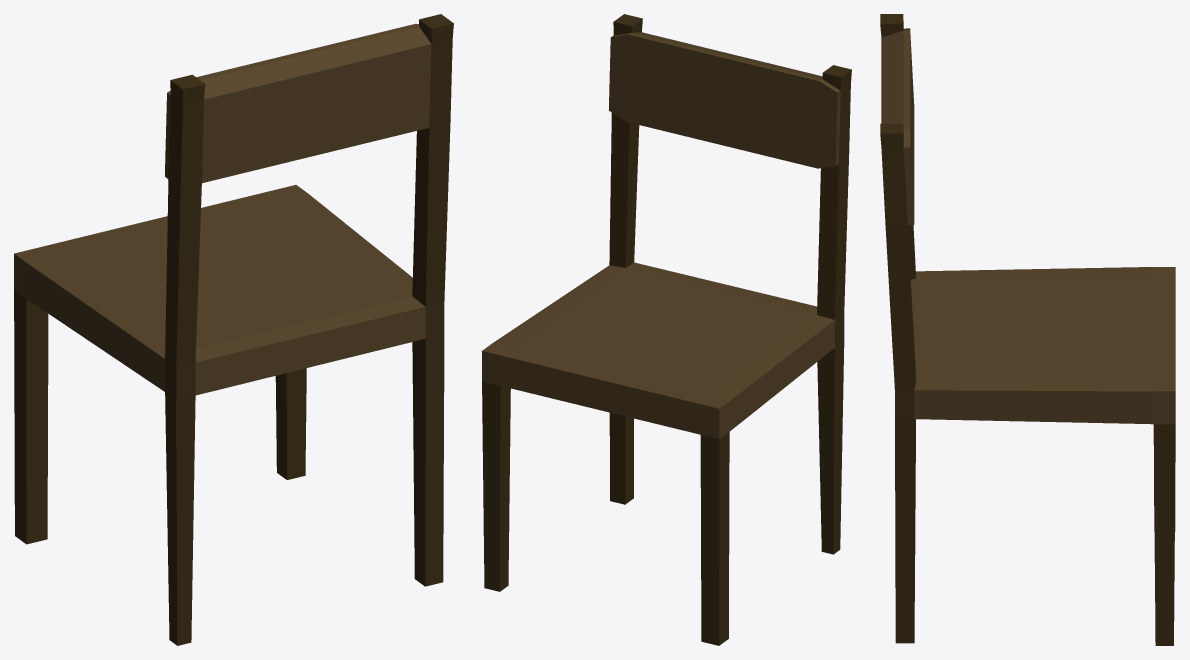
Rendered from 3D_Chair_v1.fbx.
3 views of the same model, side by side, from view 1: azimuth 30°, elevation 25°; view 2: azimuth 150°, elevation 25°; view 3: azimuth 270°, elevation 25° (orthographic). The views are drawn at different scales.
Visible parts, largest first — view 1: Cube; view 2: Cube; view 3: Cube.
Part boxes in pixels (x1=…): Cube: x1=14, y1=14, x2=453, y2=645; Cube: x1=482, y1=14, x2=851, y2=645; Cube: x1=880, y1=14, x2=1175, y2=645.
Size of the model in its own units: 59.67 by 114 by 59.87.
